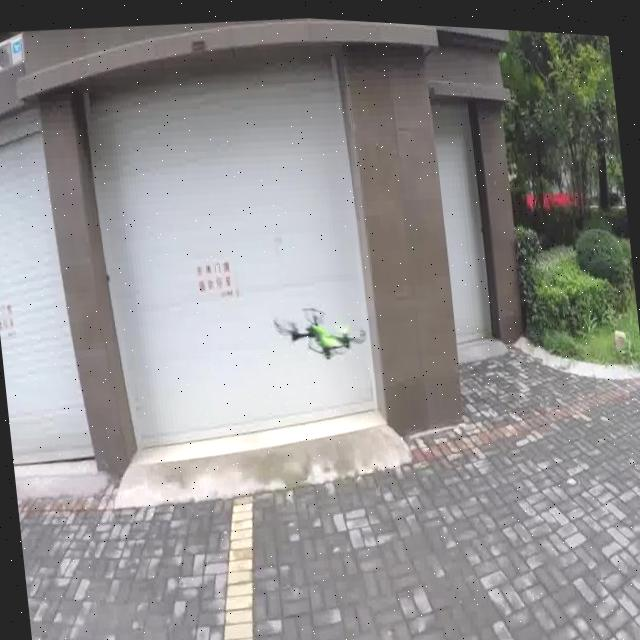drone: (268, 271, 376, 378)
